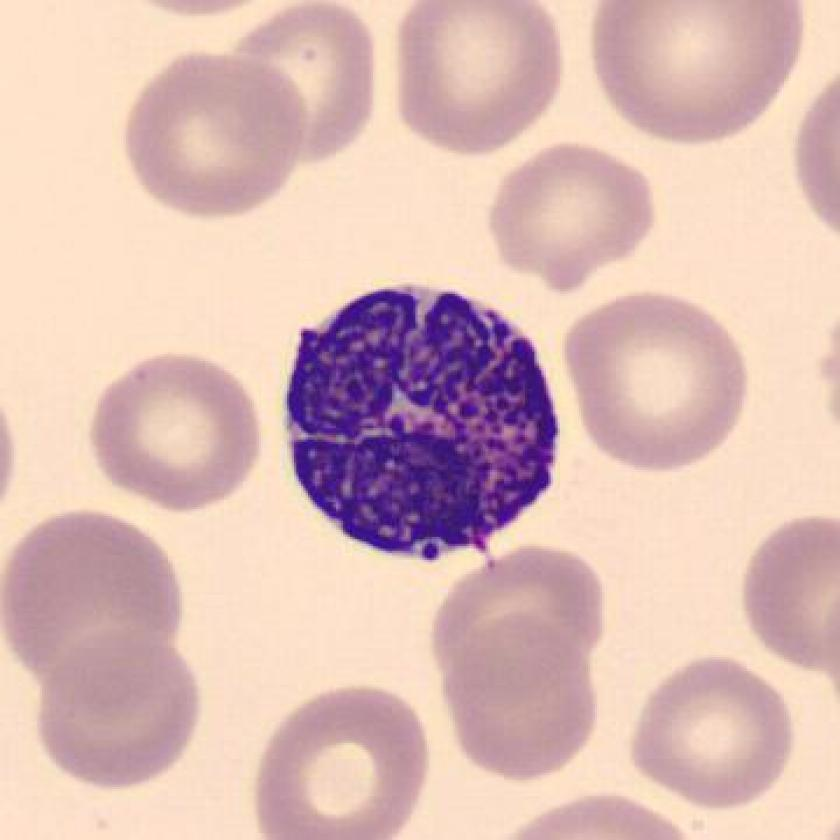basophil: (277, 274, 571, 575)
